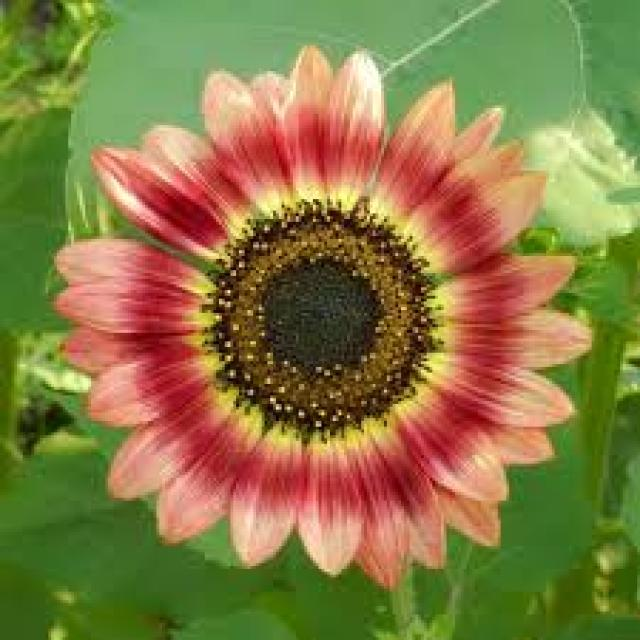sunflower: (45, 39, 601, 598)
